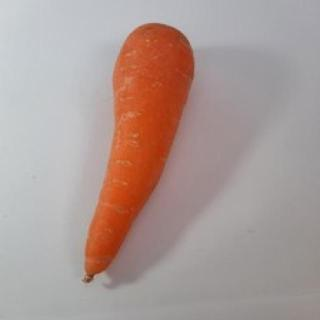carrot: (82, 22, 194, 284)
